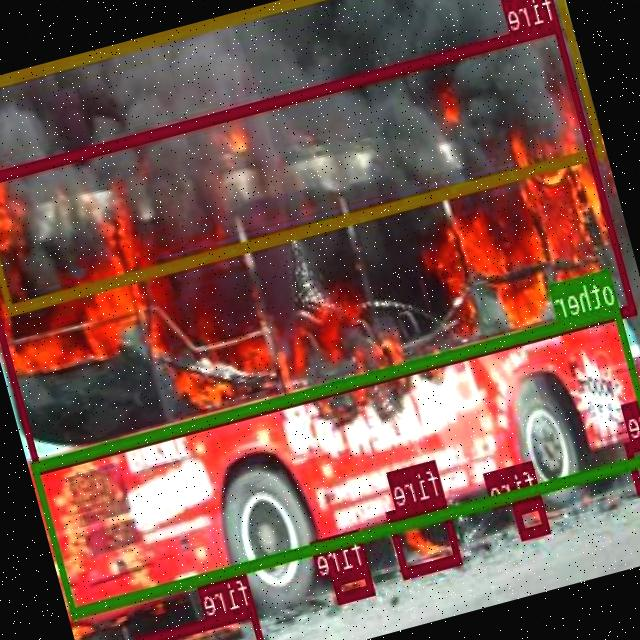fire: (0, 19, 637, 472), (387, 494, 463, 576), (137, 605, 267, 640), (514, 494, 552, 536), (332, 564, 374, 601), (625, 427, 640, 492)
smoke: (0, 0, 605, 311)
